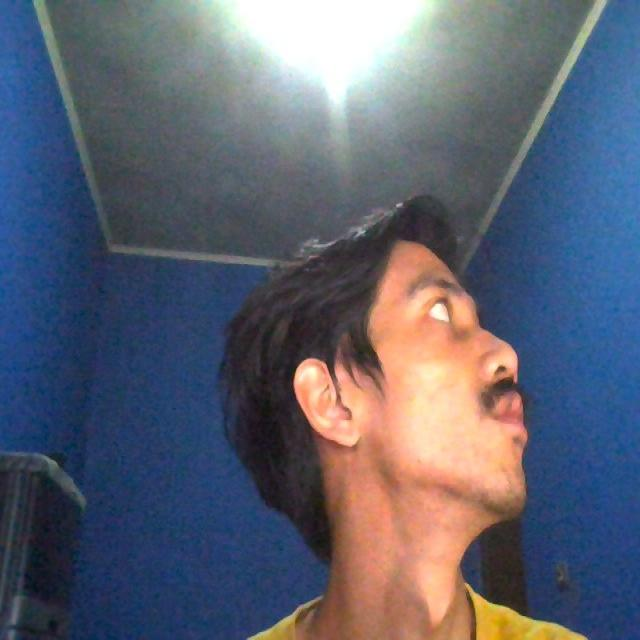melihat kekiri: (190, 206, 562, 566)
